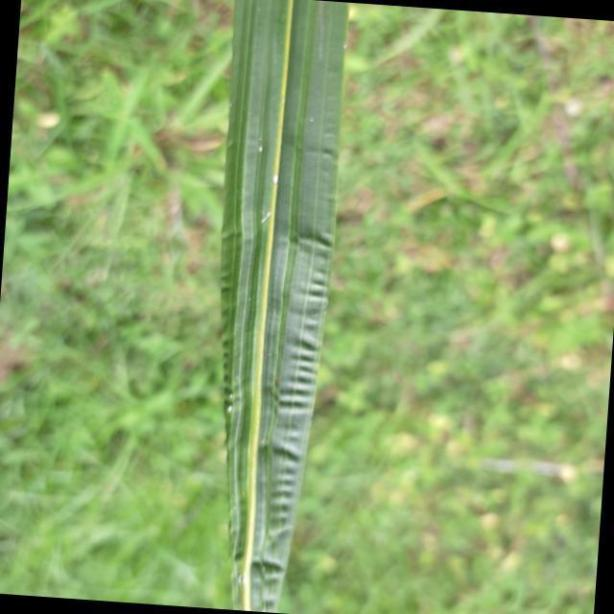Boron: (219, 1, 350, 614)
